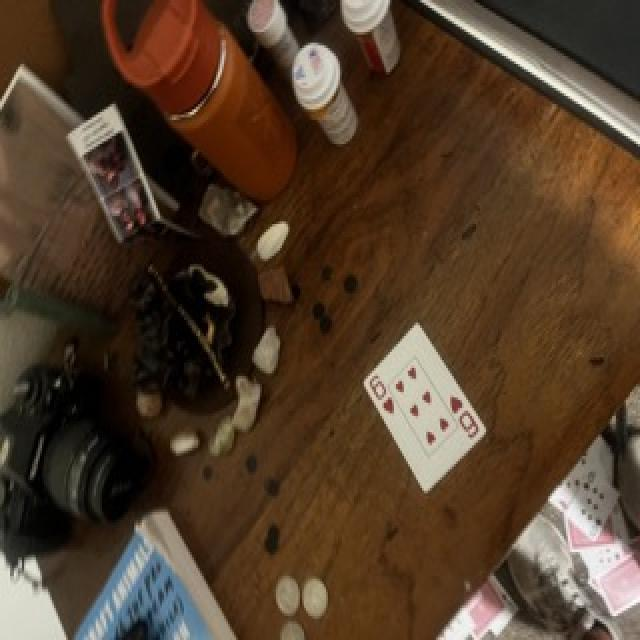6 of hearts: (364, 323, 486, 492)
